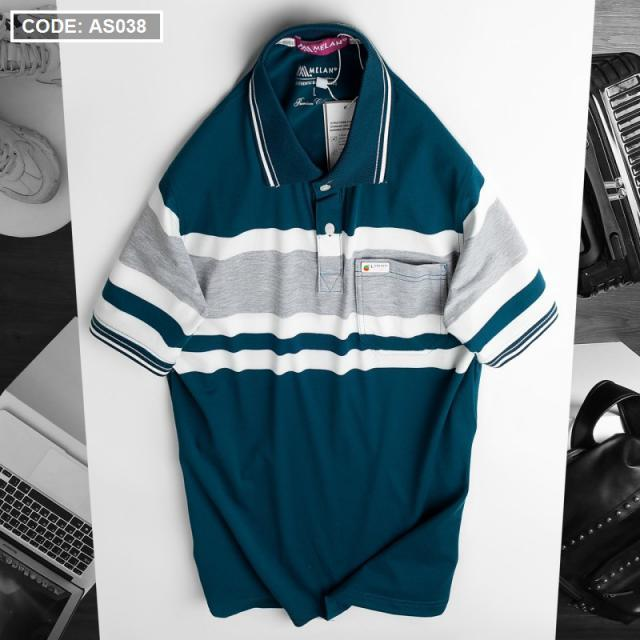Shirt: (90, 21, 560, 624)
